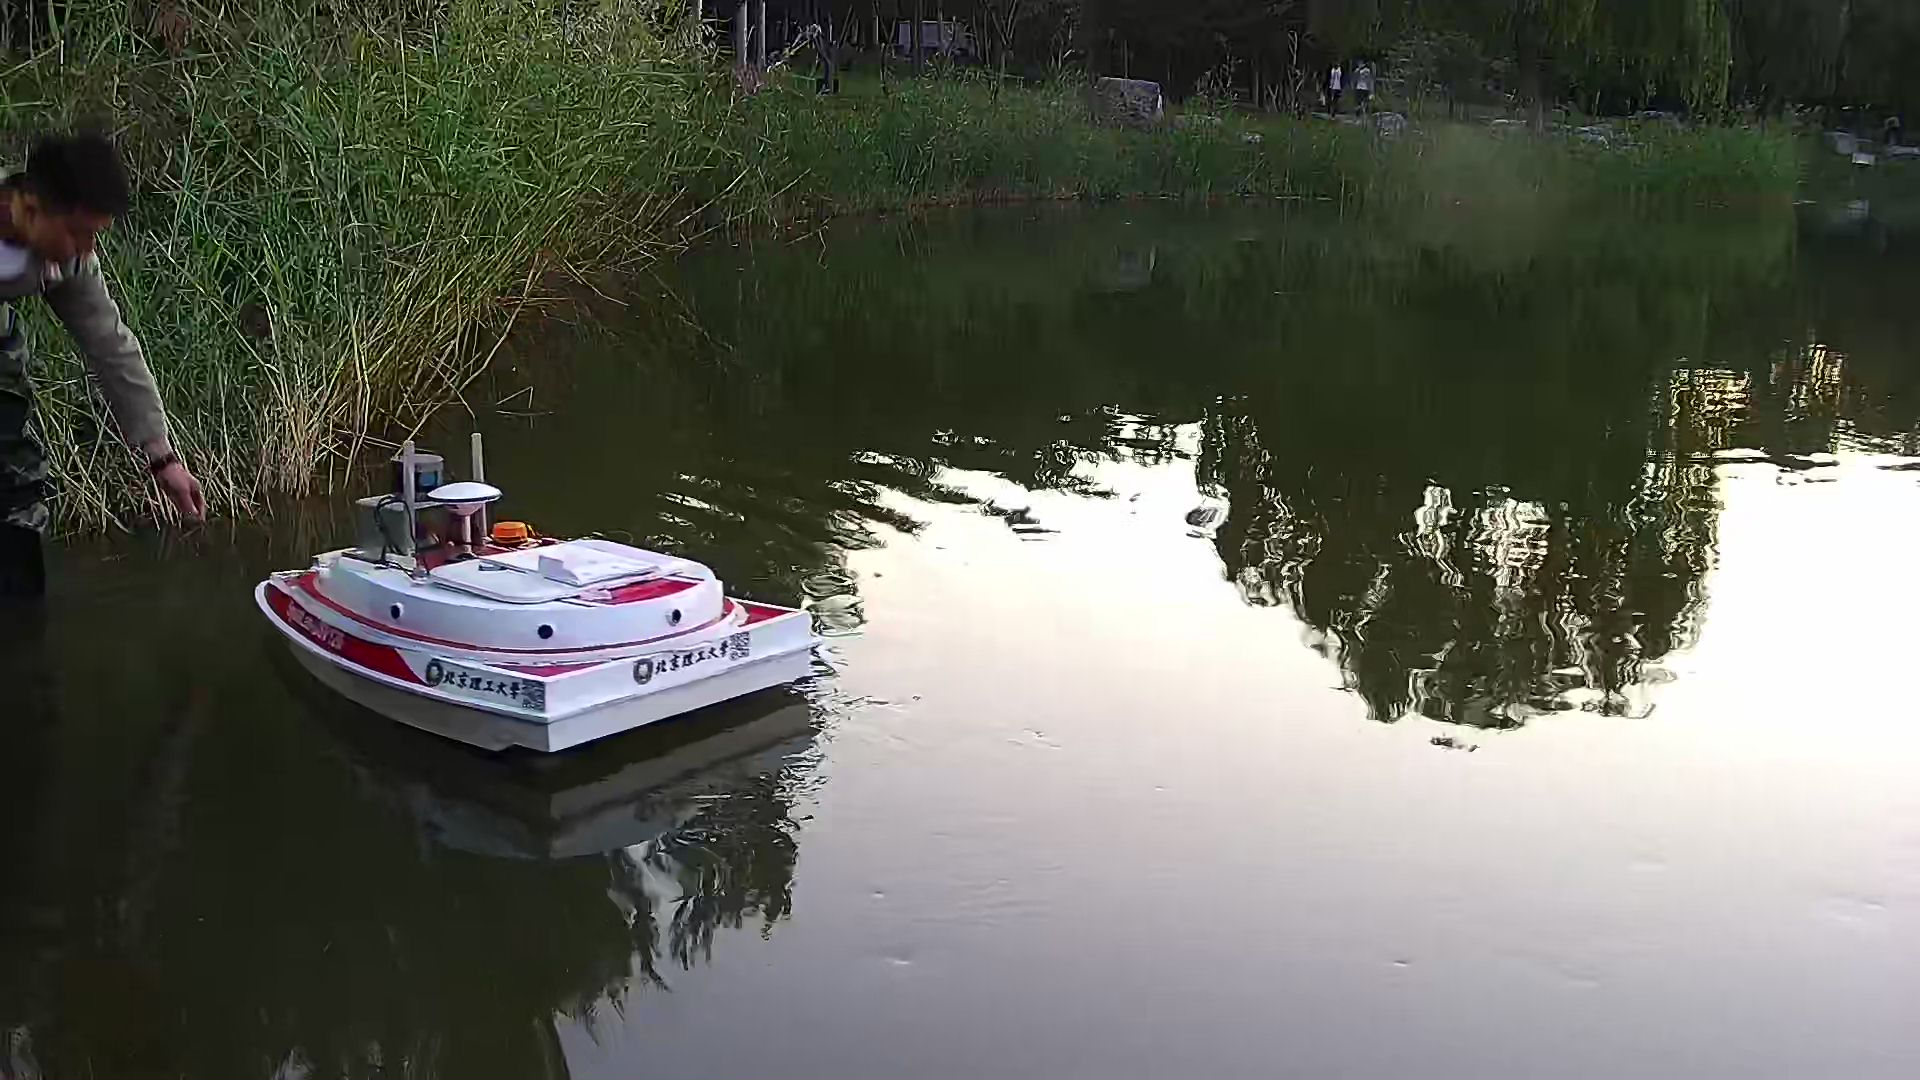boat: (247, 440, 825, 774)
